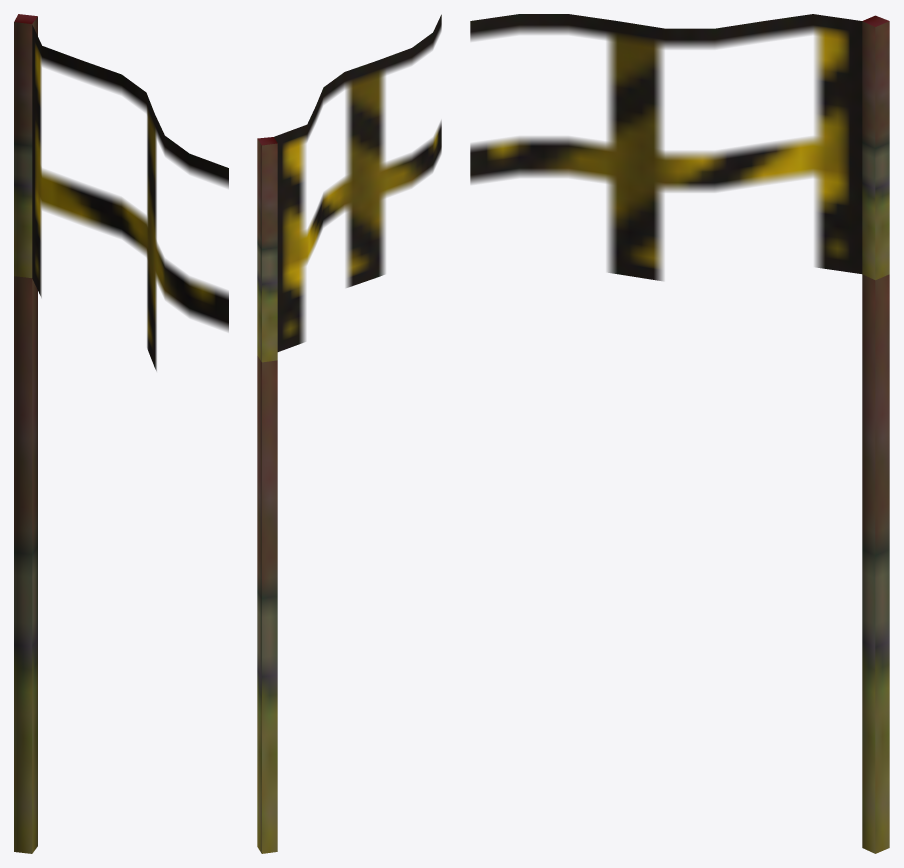
File: prop-028.glb
3 views of the same model, side by side, from view 1: azimuth 30°, elevation 25°; view 2: azimuth 150°, elevation 25°; view 3: azimuth 270°, elevation 25° (orthographic). The views are drawn at different scales.
Parts seen in each view (by area): view 1: root; view 2: root; view 3: root.
Boxes of the visible parts, x1,y1,x2,y2 form: root: [14, 14, 228, 853]; root: [257, 14, 441, 853]; root: [470, 14, 889, 853].
Bounding box in the file's own units: 0.0566 × 1.49 × 0.6836.
2 materials, 2 textured.
